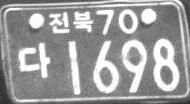0: (117, 7, 138, 36)
1: (65, 38, 83, 96)
6: (91, 39, 120, 94)
7: (94, 8, 115, 36)
8: (151, 37, 180, 92)
9: (120, 38, 148, 93)
다: (17, 41, 51, 80)
전북_O: (48, 9, 94, 35)
